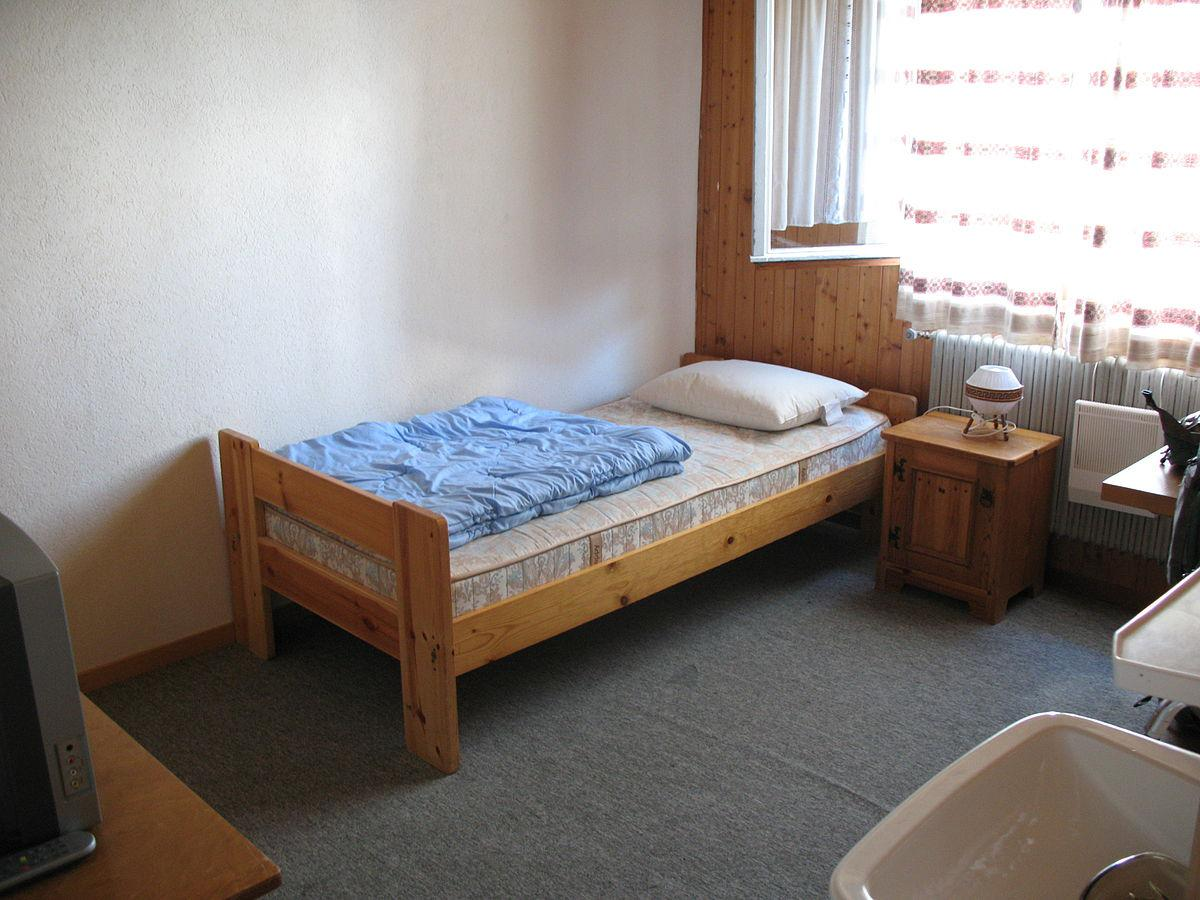bed: (183, 335, 926, 790)
